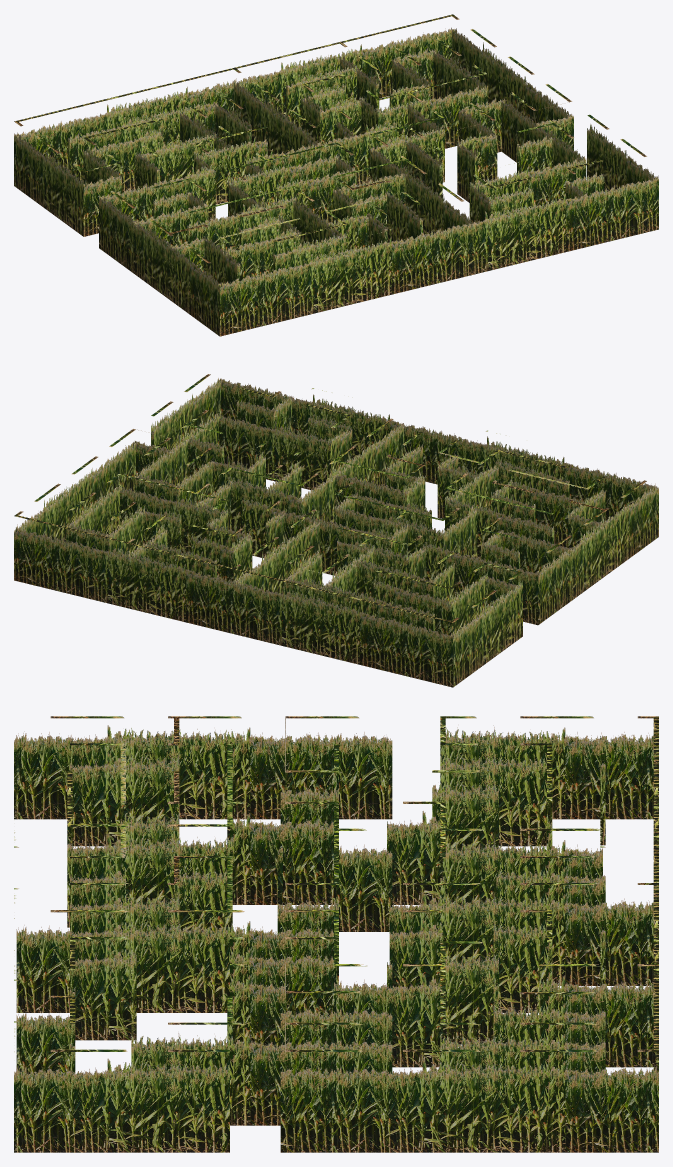
The model's file is CORN MAZE-03.fbx.
3 views of the same model, one above another, from view 1: azimuth 30°, elevation 25°; view 2: azimuth 150°, elevation 25°; view 3: azimuth 270°, elevation 25° (orthographic). The views are drawn at different scales.
Parts seen in each view (by area): view 1: maze walls; view 2: maze walls; view 3: maze walls.
Boxes of the visible parts, x1,y1,x2,y2 form: maze walls: (14,14,658,336); maze walls: (14,374,658,687); maze walls: (14,716,658,1152).
Size of the model in its own units: 2268 by 318 by 1842.
Materials: 1 (1 with a texture image).
